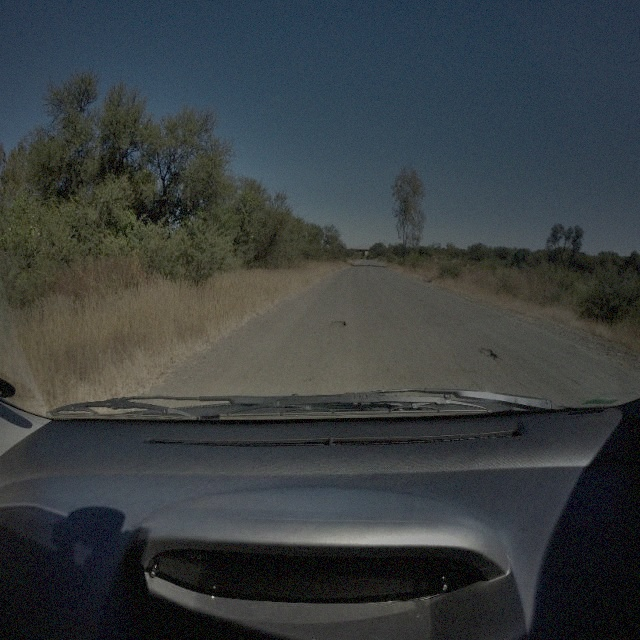pothole: (475, 344, 496, 358), (328, 316, 344, 328)
